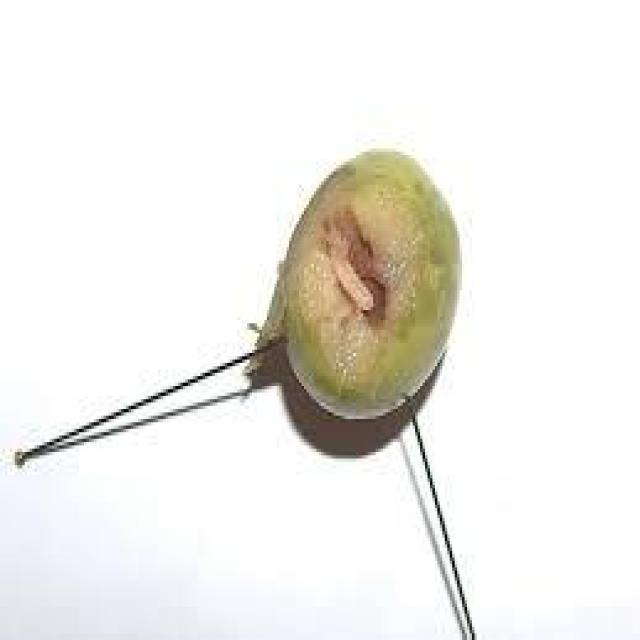Olive Fruit Fly: (279, 150, 466, 419)
